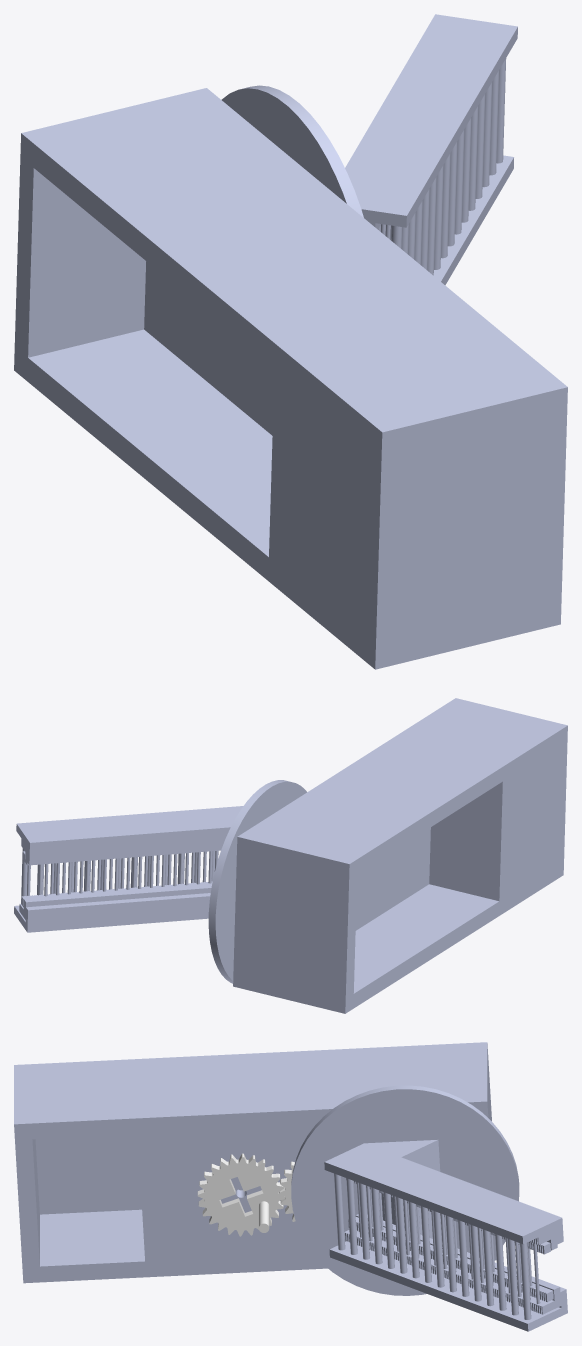
File: Assemblage_V2.1.glb
3 views of the same model, one above another, from view 1: azimuth 30°, elevation 25°; view 2: azimuth 150°, elevation 25°; view 3: azimuth 270°, elevation 25° (orthographic). The views are drawn at different scales.
Parts seen in each view (by area): view 1: Bati V1-1, Echelle principale n°1-1, plaque tournante-1; view 2: Bati V1-1, Echelle principale n°1-1, plaque tournante-1, Echelle n°2-1, Echelle n°3-1; view 3: Bati V1-1, Echelle principale n°1-1, plaque tournante-1, Engrenage + manivelle-2, Echelle n°2-1, Echelle n°3-1, Engrenage central-2.
Boxes of the visible parts, <box> form: Bati V1-1: <box>14,88,567,669</box>; Echelle principale n°1-1: <box>345,14,517,285</box>; plaque tournante-1: <box>221,85,363,217</box>; Bati V1-1: <box>233,698,567,1013</box>; Echelle principale n°1-1: <box>14,806,243,932</box>; plaque tournante-1: <box>208,780,306,983</box>; Echelle n°2-1: <box>19,838,218,919</box>; Echelle n°3-1: <box>21,851,212,906</box>; Bati V1-1: <box>14,1042,496,1283</box>; Echelle principale n°1-1: <box>324,1140,567,1331</box>; plaque tournante-1: <box>291,1085,519,1295</box>; Engrenage + manivelle-2: <box>197,1153,285,1236</box>; Echelle n°2-1: <box>344,1182,561,1314</box>; Echelle n°3-1: <box>346,1178,553,1301</box>; Engrenage central-2: <box>279,1161,295,1221</box>.
Bounding box in the file's own units: 0.2258 × 0.1299 × 0.3155.
